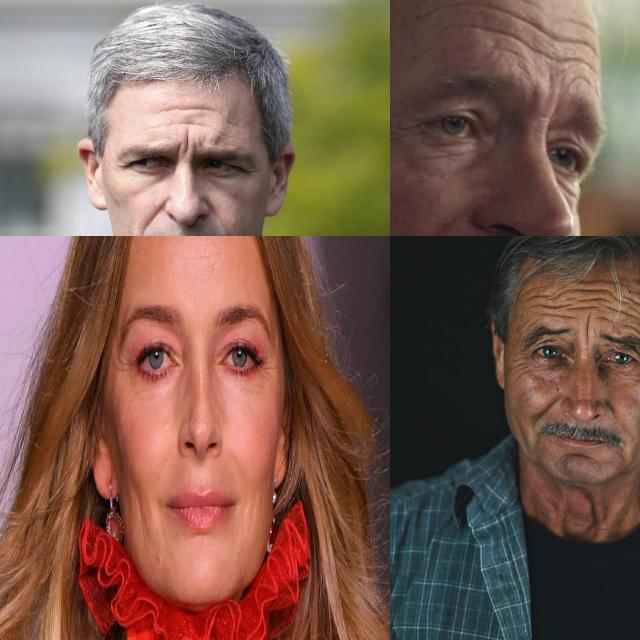chin: (560, 447, 598, 467)
crows_feet: (390, 110, 418, 143), (511, 354, 531, 380), (264, 351, 277, 383), (119, 354, 135, 378)
forehead: (472, 0, 556, 57), (560, 17, 596, 75), (534, 288, 580, 318), (157, 99, 215, 117), (587, 284, 619, 316), (623, 283, 640, 329), (175, 118, 205, 130)
frown_line: (535, 68, 561, 102), (580, 326, 594, 358), (179, 135, 195, 159)
gummy_smile: (530, 399, 558, 427), (141, 200, 165, 232), (603, 399, 621, 423)
masseter: (129, 480, 145, 536), (258, 475, 268, 527)
